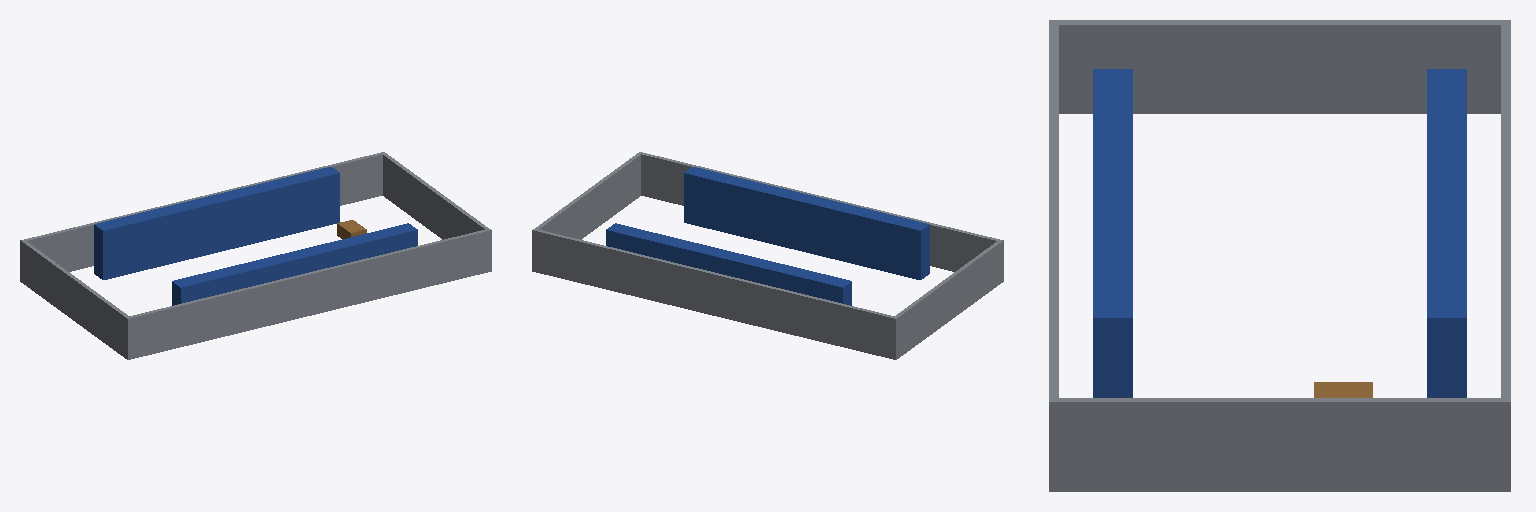
The robot description file, URDF, robot "warehouse_small":
<?xml version="1.0"?>
<!--
  A small warehouse for Lagrange samples: an 18 m x 9 m hall with two rack rows and a
  pallet, all fixed to the ground (root link "world"). The same layout as the mock
  server's synthetic lidar scene. Boxes only, so it needs no mesh files.
-->
<robot name="warehouse_small">
  <material name="concrete">
    <color rgba="0.55 0.57 0.60 1"/>
  </material>
  <material name="rack">
    <color rgba="0.20 0.36 0.62 1"/>
  </material>
  <material name="wood">
    <color rgba="0.62 0.46 0.28 1"/>
  </material>
  <link name="world"/>
  <link name="wall_south">
    <visual>
      <geometry><box size="18 0.2 2"/></geometry>
      <material name="concrete"/>
    </visual>
    <collision>
      <geometry><box size="18 0.2 2"/></geometry>
    </collision>
  </link>
  <joint name="wall_south_fixed" type="fixed">
    <parent link="world"/>
    <child link="wall_south"/>
    <origin xyz="0 -4.6 1"/>
  </joint>
  <link name="wall_north">
    <visual>
      <geometry><box size="18 0.2 2"/></geometry>
      <material name="concrete"/>
    </visual>
    <collision>
      <geometry><box size="18 0.2 2"/></geometry>
    </collision>
  </link>
  <joint name="wall_north_fixed" type="fixed">
    <parent link="world"/>
    <child link="wall_north"/>
    <origin xyz="0 4.6 1"/>
  </joint>
  <link name="wall_west">
    <visual>
      <geometry><box size="0.2 9.4 2"/></geometry>
      <material name="concrete"/>
    </visual>
    <collision>
      <geometry><box size="0.2 9.4 2"/></geometry>
    </collision>
  </link>
  <joint name="wall_west_fixed" type="fixed">
    <parent link="world"/>
    <child link="wall_west"/>
    <origin xyz="-9.1 0 1"/>
  </joint>
  <link name="wall_east">
    <visual>
      <geometry><box size="0.2 9.4 2"/></geometry>
      <material name="concrete"/>
    </visual>
    <collision>
      <geometry><box size="0.2 9.4 2"/></geometry>
    </collision>
  </link>
  <joint name="wall_east_fixed" type="fixed">
    <parent link="world"/>
    <child link="wall_east"/>
    <origin xyz="9.1 0 1"/>
  </joint>
  <link name="rack_north">
    <visual>
      <geometry><box size="12 0.8 2.4"/></geometry>
      <material name="rack"/>
    </visual>
    <collision>
      <geometry><box size="12 0.8 2.4"/></geometry>
    </collision>
  </link>
  <joint name="rack_north_fixed" type="fixed">
    <parent link="world"/>
    <child link="rack_north"/>
    <origin xyz="0 3.4 1.2"/>
  </joint>
  <link name="rack_south">
    <visual>
      <geometry><box size="12 0.8 2.4"/></geometry>
      <material name="rack"/>
    </visual>
    <collision>
      <geometry><box size="12 0.8 2.4"/></geometry>
    </collision>
  </link>
  <joint name="rack_south_fixed" type="fixed">
    <parent link="world"/>
    <child link="rack_south"/>
    <origin xyz="0 -3.4 1.2"/>
  </joint>
  <link name="pallet">
    <visual>
      <geometry><box size="0.8 1.2 0.6"/></geometry>
      <material name="wood"/>
    </visual>
    <collision>
      <geometry><box size="0.8 1.2 0.6"/></geometry>
    </collision>
  </link>
  <joint name="pallet_fixed" type="fixed">
    <parent link="world"/>
    <child link="pallet"/>
    <origin xyz="5.6 1.3 0.3"/>
  </joint>
</robot>

--- What the picture shows (computed from the rendered views, not written in the file) ---
The picture shows the robot from 3 angles, left to right: view 1: azimuth 30°, elevation 25°; view 2: azimuth 150°, elevation 25°; view 3: azimuth 270°, elevation 25°; orthographic projection.
Model warehouse_small with 8 links and 7 joints (7 fixed), rooted at world, posed all joints at 0.
Links seen in each view (by area): view 1: wall_south, rack_north, rack_south, wall_west, wall_north, wall_east; view 2: wall_north, rack_south, rack_north, wall_west, wall_south, wall_east; view 3: wall_east, wall_west, rack_north, rack_south, wall_south, wall_north, pallet.
Boxes of the visible links, x1=… form: wall_south: x1=130, y1=230, x2=487, y2=358; rack_north: x1=94, y1=167, x2=339, y2=279; rack_south: x1=172, y1=223, x2=417, y2=305; wall_west: x1=20, y1=240, x2=131, y2=359; wall_north: x1=24, y1=153, x2=382, y2=271; wall_east: x1=381, y1=152, x2=491, y2=271; wall_north: x1=536, y1=230, x2=893, y2=358; rack_south: x1=684, y1=167, x2=929, y2=279; rack_north: x1=606, y1=223, x2=851, y2=305; wall_west: x1=892, y1=240, x2=1003, y2=359; wall_south: x1=641, y1=153, x2=999, y2=271; wall_east: x1=532, y1=152, x2=642, y2=271; wall_east: x1=1049, y1=398, x2=1510, y2=491; wall_west: x1=1049, y1=20, x2=1510, y2=113; rack_north: x1=1427, y1=69, x2=1466, y2=397; rack_south: x1=1093, y1=69, x2=1132, y2=397; wall_south: x1=1049, y1=25, x2=1058, y2=397; wall_north: x1=1501, y1=25, x2=1510, y2=397; pallet: x1=1314, y1=382, x2=1372, y2=397.
Size in the robot's own frame: 18.4 by 9.4 by 2.4 metres.
Geometry: primitives only (box / cylinder / sphere), no mesh files.
